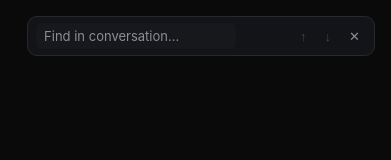
Test: FindBar › shows "No results" when nothing matches
Type "zzz" into the field labelled "Find in conversation". click: (136, 36)
box: [36,23,236,49]
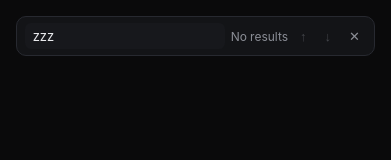
Result: the text "No results" is shown at [231,28,288,44]
